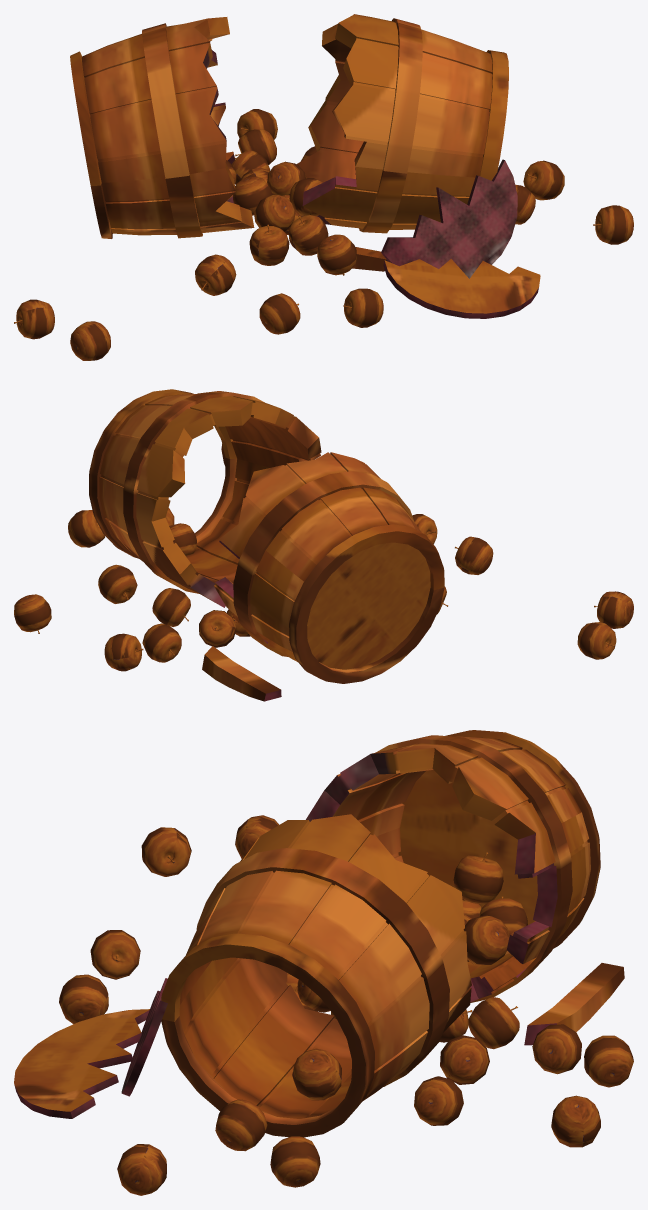
The model's file is barrel of broken fruit_1.fbx.
3 renders of one model, top to bottom at view 1: azimuth 30°, elevation 25°; view 2: azimuth 150°, elevation 25°; view 3: azimuth 270°, elevation 25°, orthographic. The views are drawn at different scales.
Parts seen in each view (by area): view 1: Circle.040, Circle.041, Plane.1554, Plane.1555, Plane.1530, Plane.1526, Plane.1547, Plane.1538, Plane.1551, Plane.1556, Plane.1545, Plane.1536 (+8 smaller); view 2: Circle.040, Plane.1556, Plane.1534, Plane.1553, Plane.1528, Plane.1543, Plane.1526, Plane.1538, Plane.1549, Plane.1546, Plane.1545, Plane.1537; view 3: Circle.040, Circle.041, Plane.1537, Plane.1545, Plane.1543, Plane.1528, Plane.1540, Plane.1551, Plane.1538, Plane.1553, Plane.1534, Plane.1526 (+7 smaller).
Boxes of the visible parts, box(x1,y1,x2,y2) form: Circle.040: box(70, 14, 508, 271); Circle.041: box(381, 159, 540, 318); Plane.1554: box(317, 234, 356, 275); Plane.1555: box(195, 254, 236, 295); Plane.1530: box(343, 288, 383, 327); Plane.1526: box(259, 293, 300, 334); Plane.1547: box(249, 224, 289, 265); Plane.1538: box(70, 321, 110, 360); Plane.1551: box(593, 205, 633, 244); Plane.1556: box(14, 299, 54, 339); Plane.1545: box(523, 160, 564, 200); Plane.1536: box(288, 215, 328, 255); Circle.040: box(89, 389, 444, 701); Plane.1556: box(577, 622, 616, 659); Plane.1534: box(98, 564, 137, 603); Plane.1553: box(142, 623, 181, 662); Plane.1528: box(104, 633, 143, 671); Plane.1543: box(14, 594, 51, 633); Plane.1526: box(455, 536, 493, 574); Plane.1538: box(594, 591, 633, 628); Plane.1549: box(152, 588, 190, 626); Plane.1546: box(199, 610, 236, 647); Plane.1545: box(68, 510, 105, 547); Plane.1537: box(169, 523, 196, 555); Circle.040: box(161, 730, 624, 1137); Circle.041: box(14, 978, 167, 1118); Plane.1537: box(292, 1048, 341, 1100); Plane.1545: box(270, 1136, 320, 1187); Plane.1543: box(551, 1095, 600, 1147); Plane.1528: box(584, 1035, 633, 1087); Plane.1540: box(215, 1099, 267, 1151); Plane.1551: box(117, 1144, 166, 1195); Plane.1538: box(141, 827, 191, 876); Plane.1553: box(532, 1024, 581, 1074); Plane.1534: box(414, 1076, 463, 1125); Plane.1526: box(90, 930, 140, 979).
Bounding box in the file's own units: 108 × 37.37 × 80.78.
